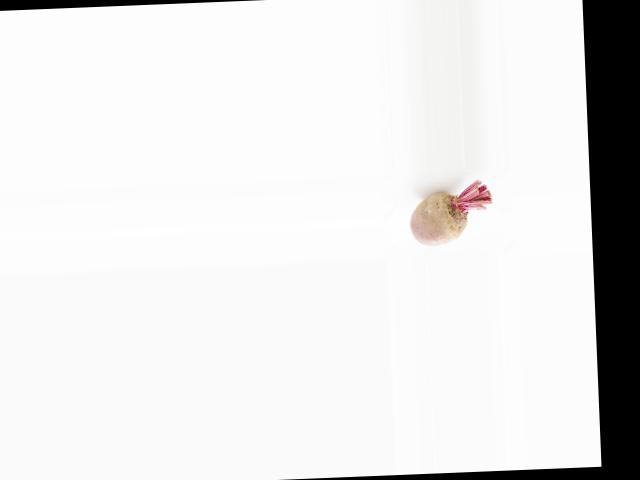beet: (407, 178, 493, 246)
